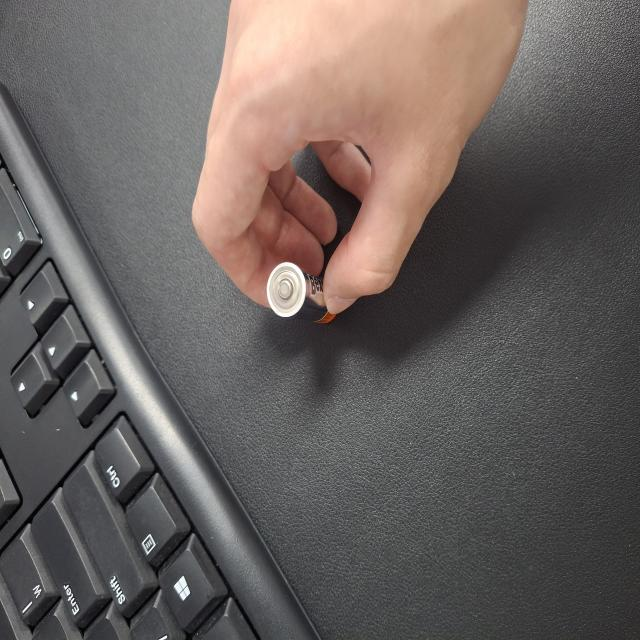AA: (238, 356, 283, 447)
